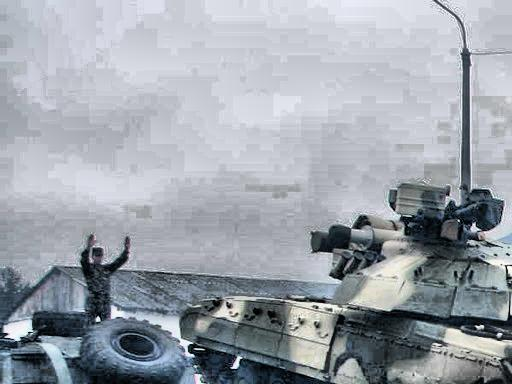tanks: (183, 185, 512, 384)
